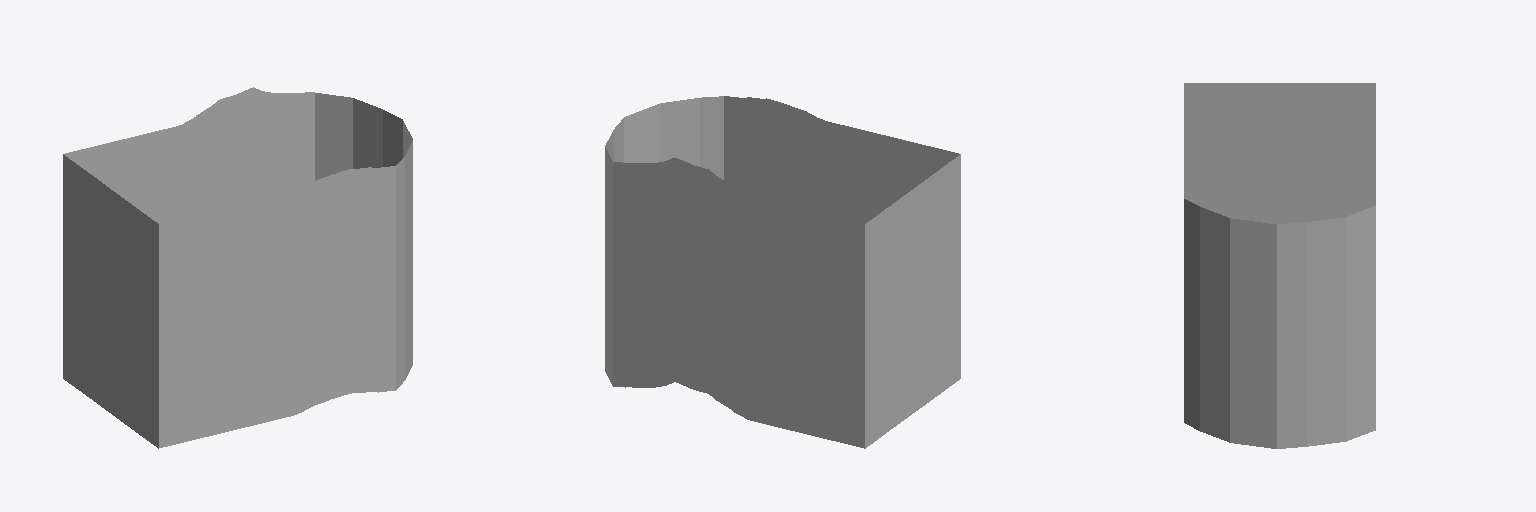
The model's file is mountainBottom2.obj.
The picture shows the model from 3 angles: view 1: azimuth 30°, elevation 25°; view 2: azimuth 150°, elevation 25°; view 3: azimuth 270°, elevation 25°; orthographic projection.
Parts seen in each view (by area): view 1: Landscape; view 2: Landscape; view 3: Landscape.
Part boxes in pixels (left/top/right/bottom): Landscape: left=63, top=87, right=412, bottom=448; Landscape: left=605, top=96, right=960, bottom=448; Landscape: left=1184, top=83, right=1375, bottom=448.
Size of the model in its own units: 13.63 by 10.99 by 7.78.